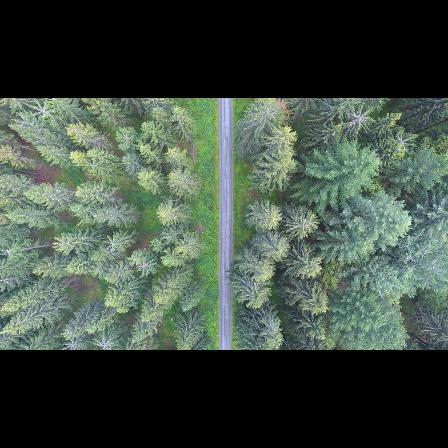Sick: (340, 105, 375, 134), (388, 130, 419, 160), (133, 247, 157, 281), (104, 236, 123, 259), (59, 335, 88, 350), (91, 336, 120, 350)
